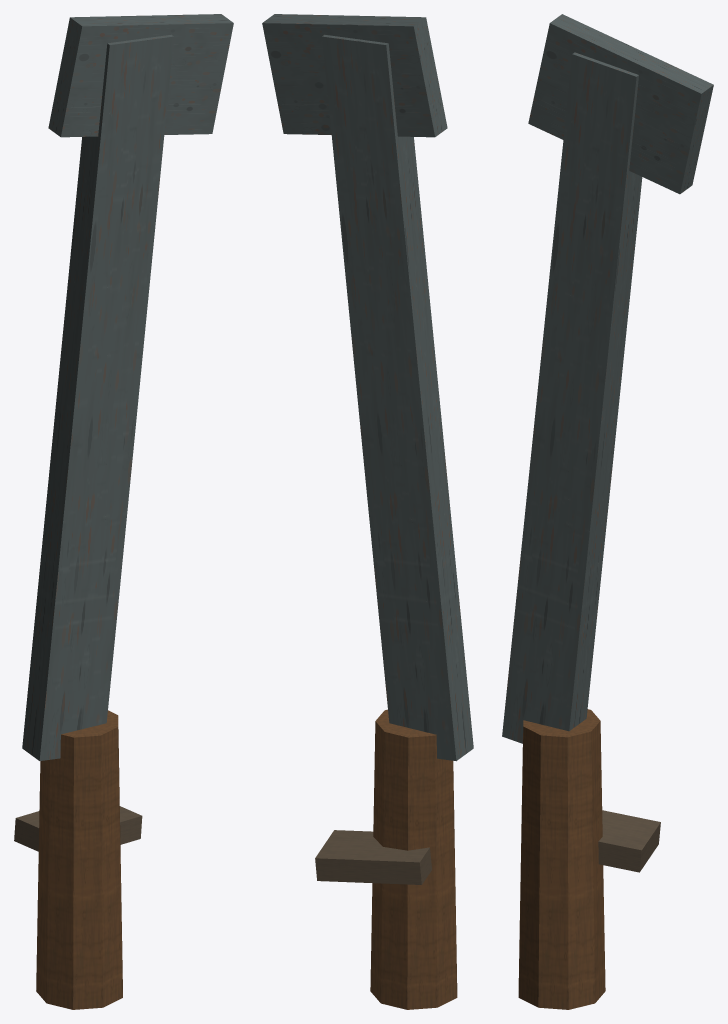
Rendered from ax-tool-002_machete__worn.obj.
3 renders of one model, left to right at view 1: azimuth 30°, elevation 25°; view 2: azimuth 150°, elevation 25°; view 3: azimuth 330°, elevation 25°, orthographic.
Visible parts, largest first — view 1: ax-tool-002_machete__worn; view 2: ax-tool-002_machete__worn; view 3: ax-tool-002_machete__worn.
Boxes of the visible parts, x1,y1,x2,y2 form: ax-tool-002_machete__worn: [14, 14, 233, 1009]; ax-tool-002_machete__worn: [262, 14, 473, 1009]; ax-tool-002_machete__worn: [502, 14, 713, 1009].
Size of the model in its own units: 0.1379 by 0.6502 by 0.08.
3 materials, 3 textured.
